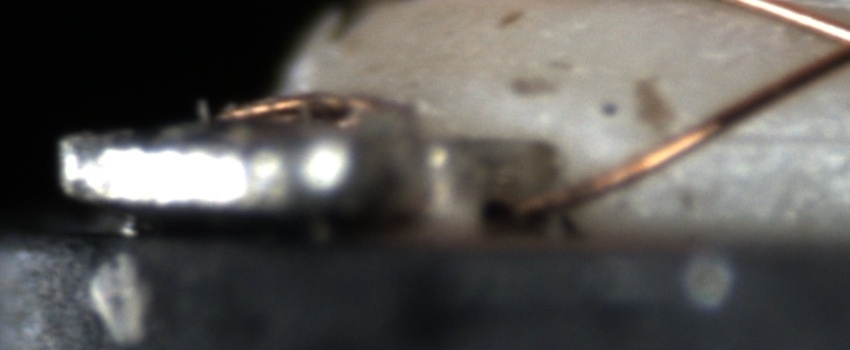DL: (730, 109, 849, 168)
TE: (189, 80, 410, 134)
